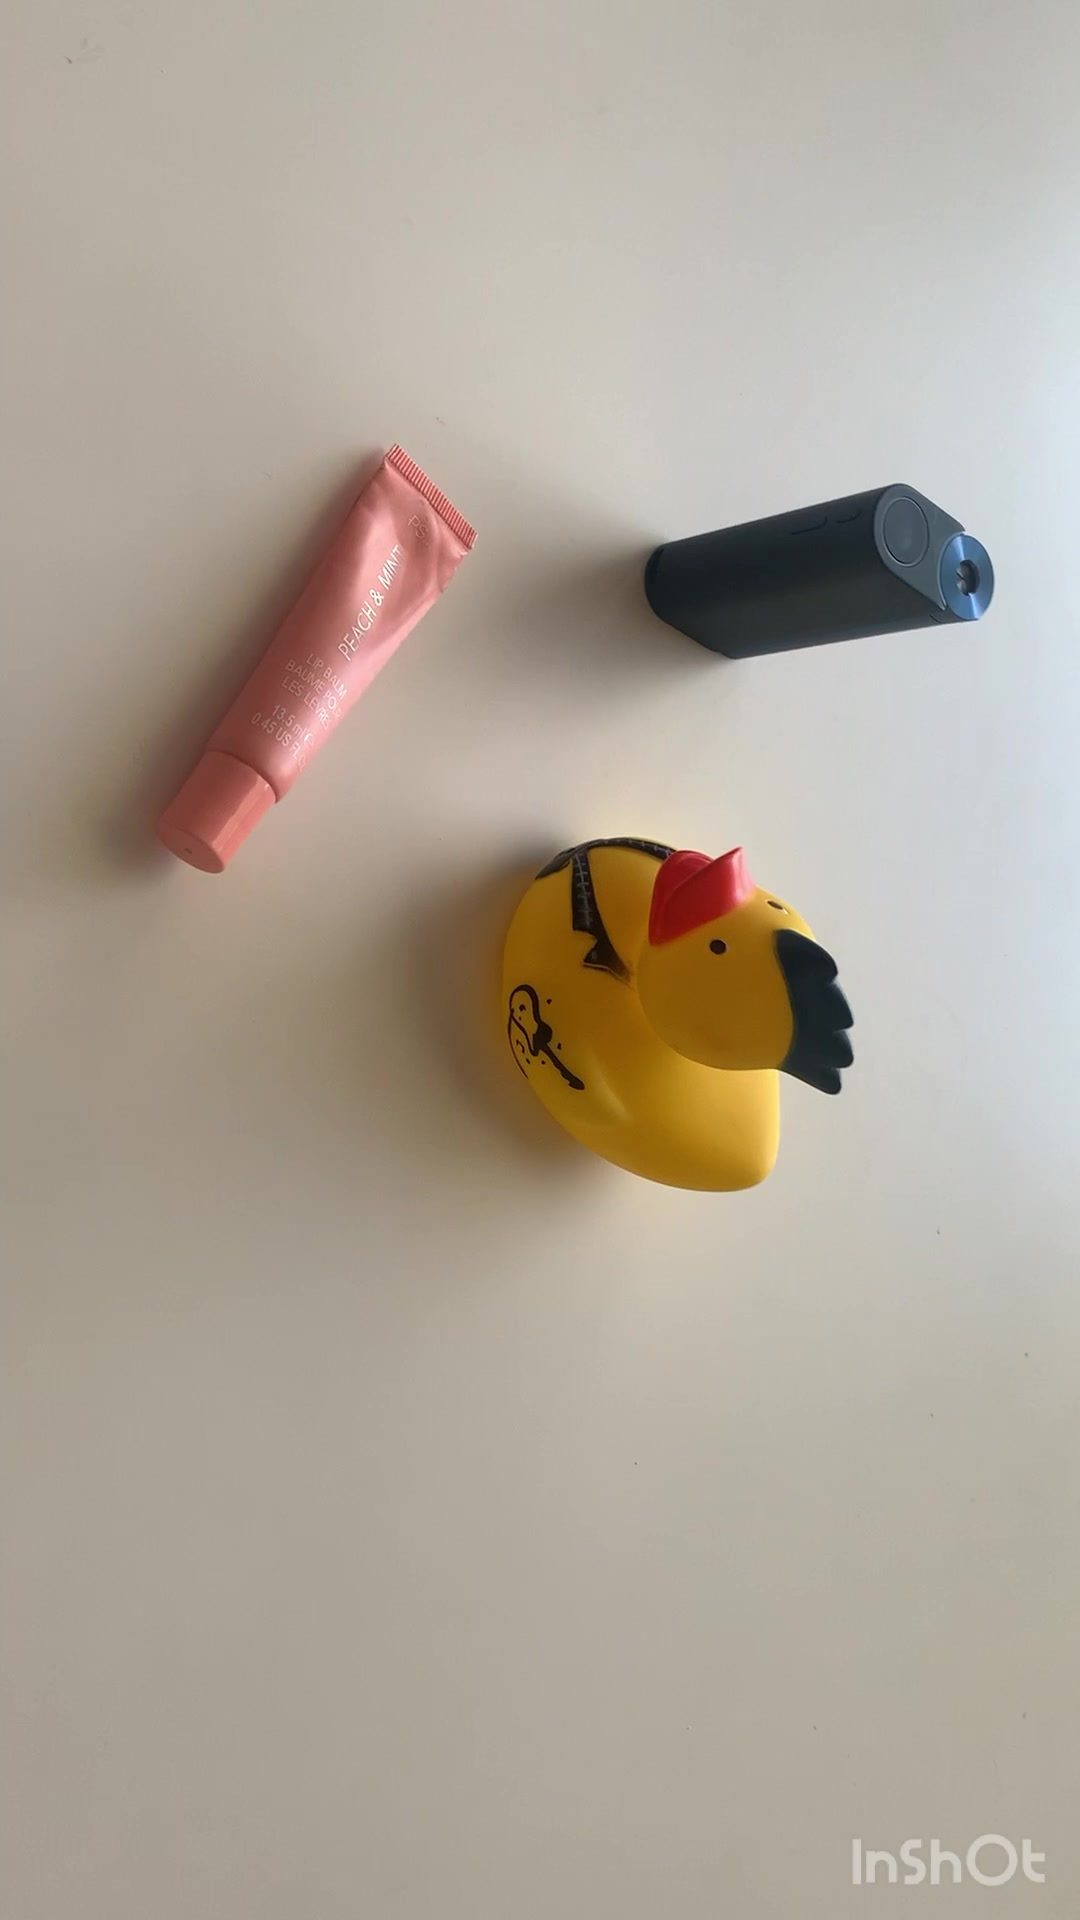duck: (498, 836, 849, 1195)
glo: (644, 483, 998, 669)
lip balm: (149, 440, 487, 877)
